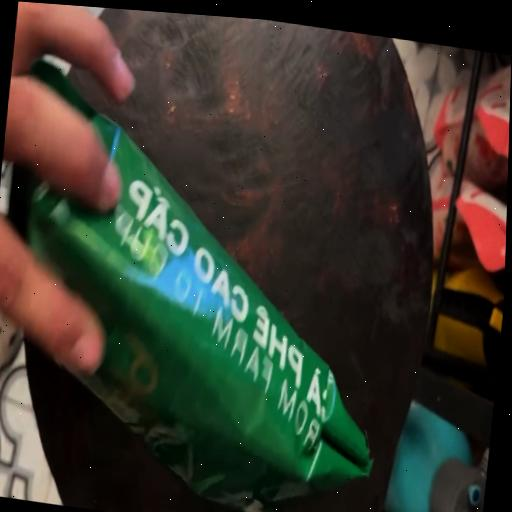cafe_xay: (24, 62, 371, 512)
